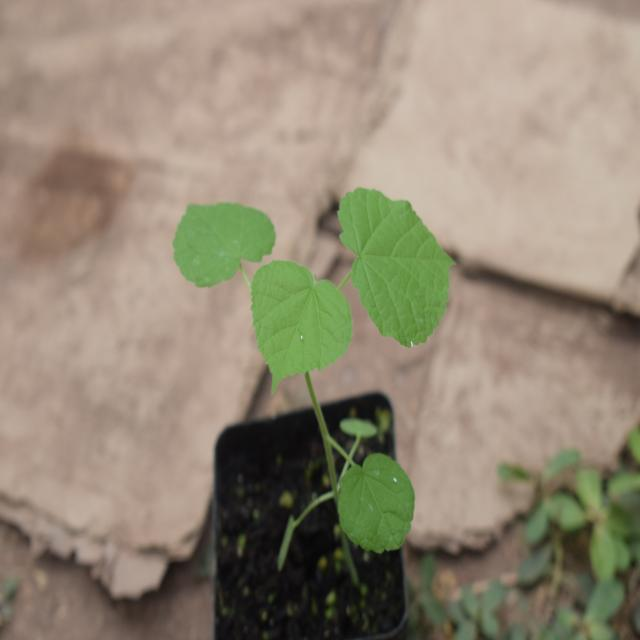abutilon theophrasti: (178, 160, 454, 561)
